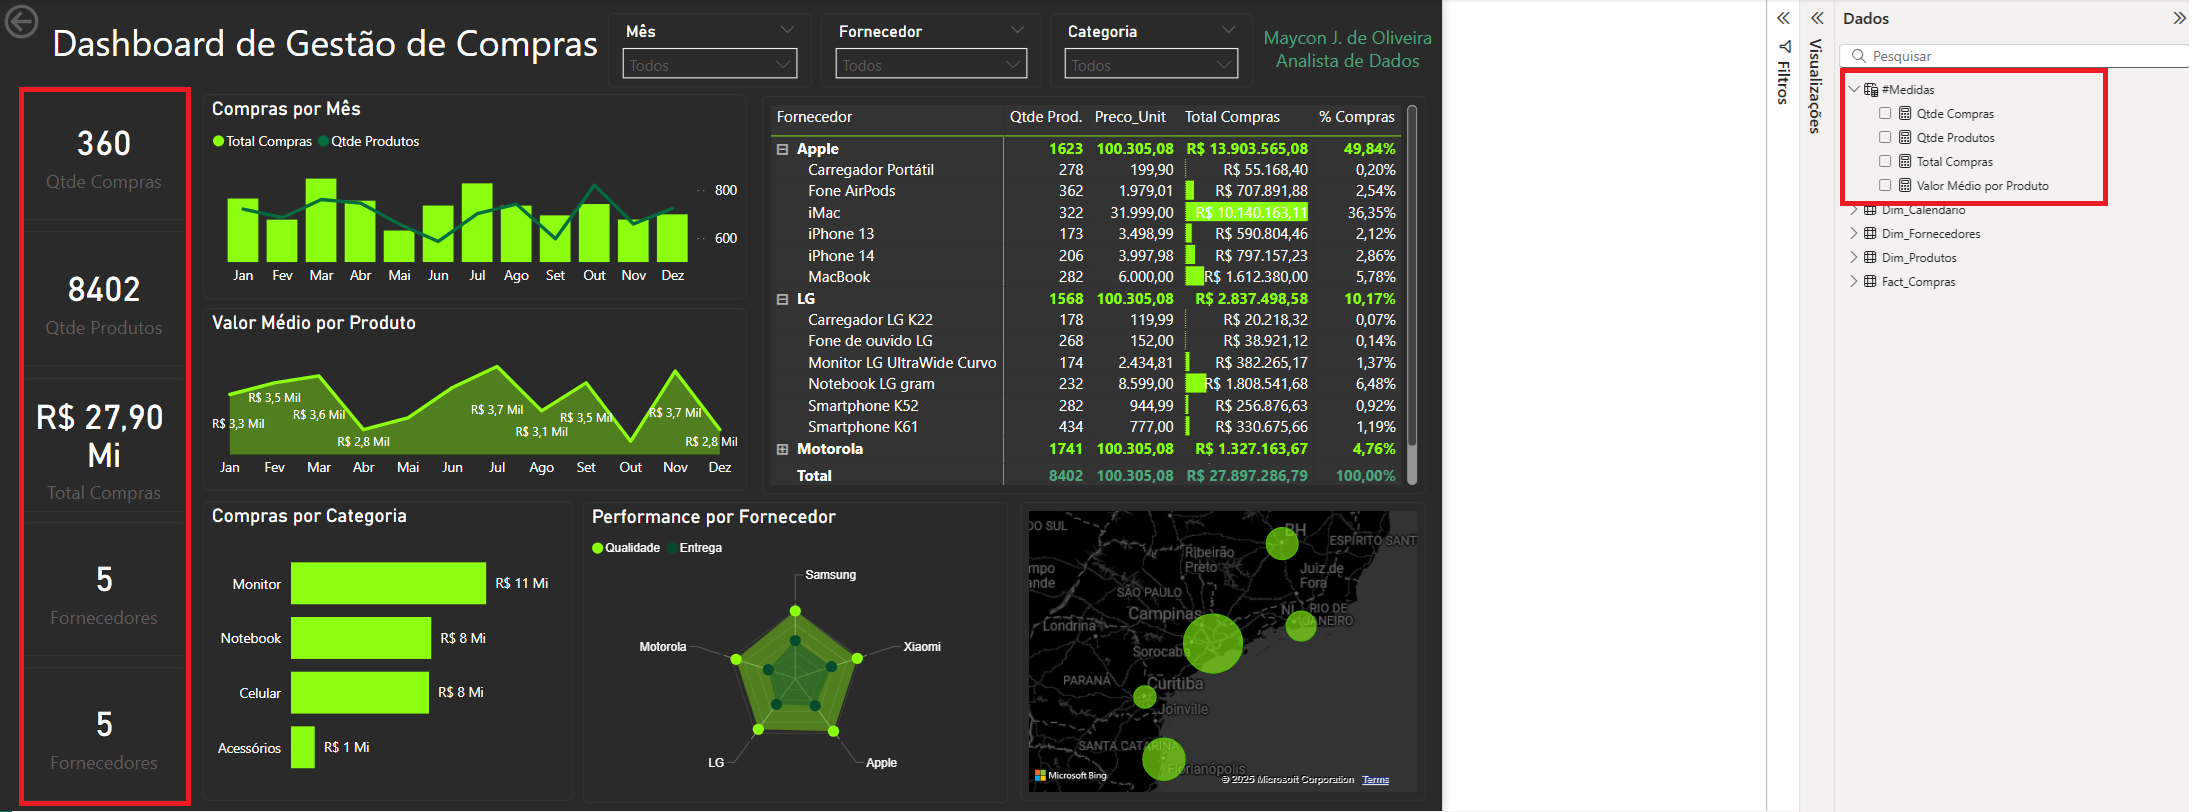

This screenshot's page, from the dashboard's own definition file:
{"tool":"powerbi","page":{"name":"Visão Geral","canvas":[1280,720],"ordinal":1},"visuals":[{"type":"card","fields":{"Values":["#Medidas.Qtde Pedidos Compra"]},"box":[18.8,77.5,148.8,118.8],"z":0},{"type":"card","fields":{"Values":["#Medidas.Quantidade"]},"box":[18.8,205.9,148.8,120],"z":1000},{"type":"card","fields":{"Values":["#Medidas.Total Compras"]},"box":[18.8,335.6,148.8,118.8],"z":2000},{"type":"card","fields":{"Values":["Count(Fornecedores.Fornecedor )"]},"box":[18.8,464.1,148.8,118.8],"z":3000},{"type":"lineStackedColumnComboChart","title":"Compras por Mês","fields":{"Y":["#Medidas.Total Compras"],"Y2":["#Medidas.Quantidade"],"Category":["dim_calendario.Mes abev"]},"box":[181,84,482,182],"z":4000},{"type":"barChart","title":"Compras por Categoria","fields":{"Category":["Produtos.Categoria"],"Y":["#Medidas.Total Compras"]},"box":[181,445,328,266],"z":5000},{"type":"pivotTable","fields":{"Rows":["Fornecedores.Fornecedor ","Produtos.Descricao_Produto"],"Values":["#Medidas.Quantidade","Sum(Produtos.Preco_Unit)","#Medidas.Total Compras","Divide(#Medidas.Total Compras, ScopedEval(#Medidas.Total Compras, []))"]},"box":[676.4,85.7,588.6,352.9],"z":6000},{"type":"RadarChart1446119667547","title":"Performance por Fornecedor ","fields":{"Category":["Fornecedores.Fornecedor "],"Y":["Sum(Compras.Qualidade)","Sum(Compras.Entrega)"]},"box":[518,446,377,267],"z":7000},{"type":"stackedAreaChart","title":"Valor Médio por Produto ","fields":{"Y":["#Medidas.Média Valor Produto"],"Category":["dim_calendario.Mes abev"]},"box":[181,274,482,162],"z":8000},{"type":"slicer","fields":{"Values":["dim_calendario.Nome do Mês"]},"box":[540,12.4,180.9,65.6],"z":9000},{"type":"slicer","fields":{"Values":["Fornecedores.Fornecedor "]},"box":[729,12,196,66],"z":10000},{"type":"slicer","fields":{"Values":["Produtos.Categoria"]},"box":[932,12,180,66],"z":11000},{"type":"textbox","box":[41.7,10.6,498.3,73.6],"z":12000},{"type":"map","fields":{"Category":["Fornecedores.Estado"],"Size":["#Medidas.Total Compras"]},"box":[905,446.2,360,265],"z":13000},{"type":"card","fields":{"Values":["Count(Fornecedores.Fornecedor )"]},"box":[18.8,592.5,148.8,118.8],"z":14000},{"type":"textbox","box":[1112,18,168,66],"z":15000},{"type":"actionButton","box":[0,0,41.7,39.9],"z":16000}]}

Visuals, with their boxes on the page's 1280x720 design canvas (x1, y1, x2, y2). These are canvas units, not pixel positions in the 2195x812 screenshot, which may show the page scaled, cropped or inside an application window:
card - #Medidas.Qtde Pedidos Compra: <box>19,78,168,196</box>
card - #Medidas.Quantidade: <box>19,206,168,326</box>
card - #Medidas.Total Compras: <box>19,336,168,454</box>
card - Count(Fornecedores.Fornecedor ): <box>19,464,168,583</box>
"Compras por Mês" lineStackedColumnComboChart: <box>181,84,663,266</box>
"Compras por Categoria" barChart: <box>181,445,509,711</box>
pivotTable - Fornecedores.Fornecedor  x Produtos.Descricao_Produto: <box>676,86,1265,439</box>
"Performance por Fornecedor " RadarChart1446119667547: <box>518,446,895,713</box>
"Valor Médio por Produto " stackedAreaChart: <box>181,274,663,436</box>
slicer - dim_calendario.Nome do Mês: <box>540,12,721,78</box>
slicer - Fornecedores.Fornecedor : <box>729,12,925,78</box>
slicer - Produtos.Categoria: <box>932,12,1112,78</box>
textbox: <box>42,11,540,84</box>
map - Fornecedores.Estado x #Medidas.Total Compras: <box>905,446,1265,711</box>
card - Count(Fornecedores.Fornecedor ): <box>19,592,168,711</box>
textbox: <box>1112,18,1280,84</box>
actionButton: <box>0,0,42,40</box>
